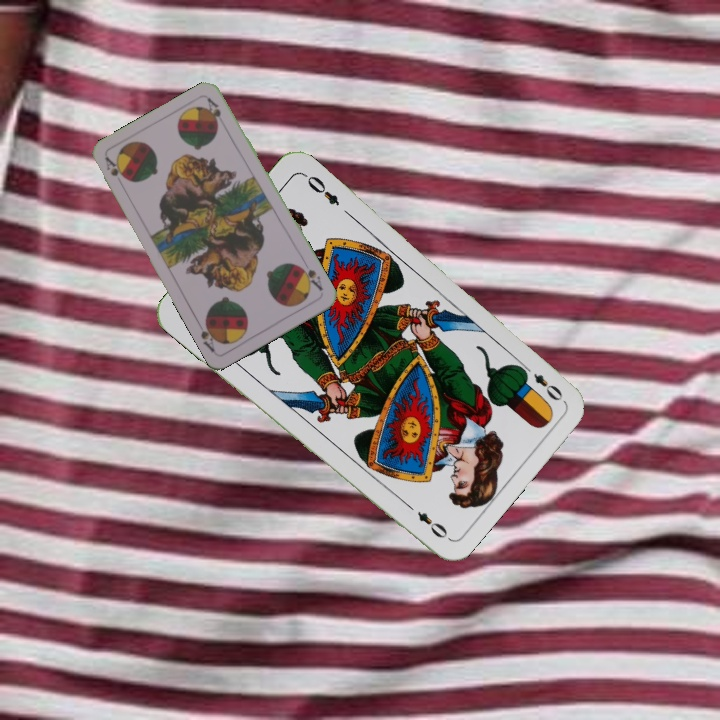EO: (517, 359, 566, 404)
SA: (101, 153, 129, 190), (295, 261, 325, 294)
